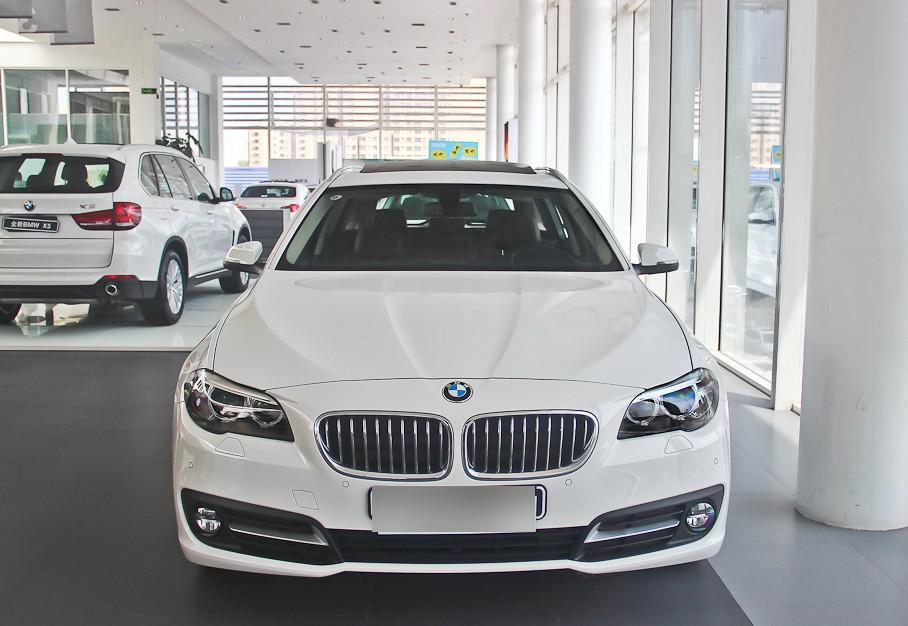Wagon: (174, 159, 731, 580)
